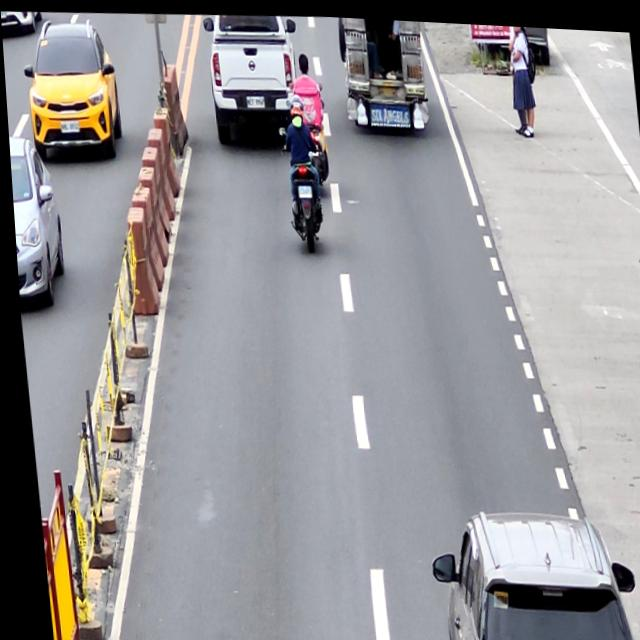Car: (202, 9, 305, 149)
Jeep: (336, 14, 430, 129)
License-Plate: (245, 92, 264, 107), (295, 182, 310, 195)
Motorcycle: (278, 118, 326, 252), (287, 78, 329, 182)
